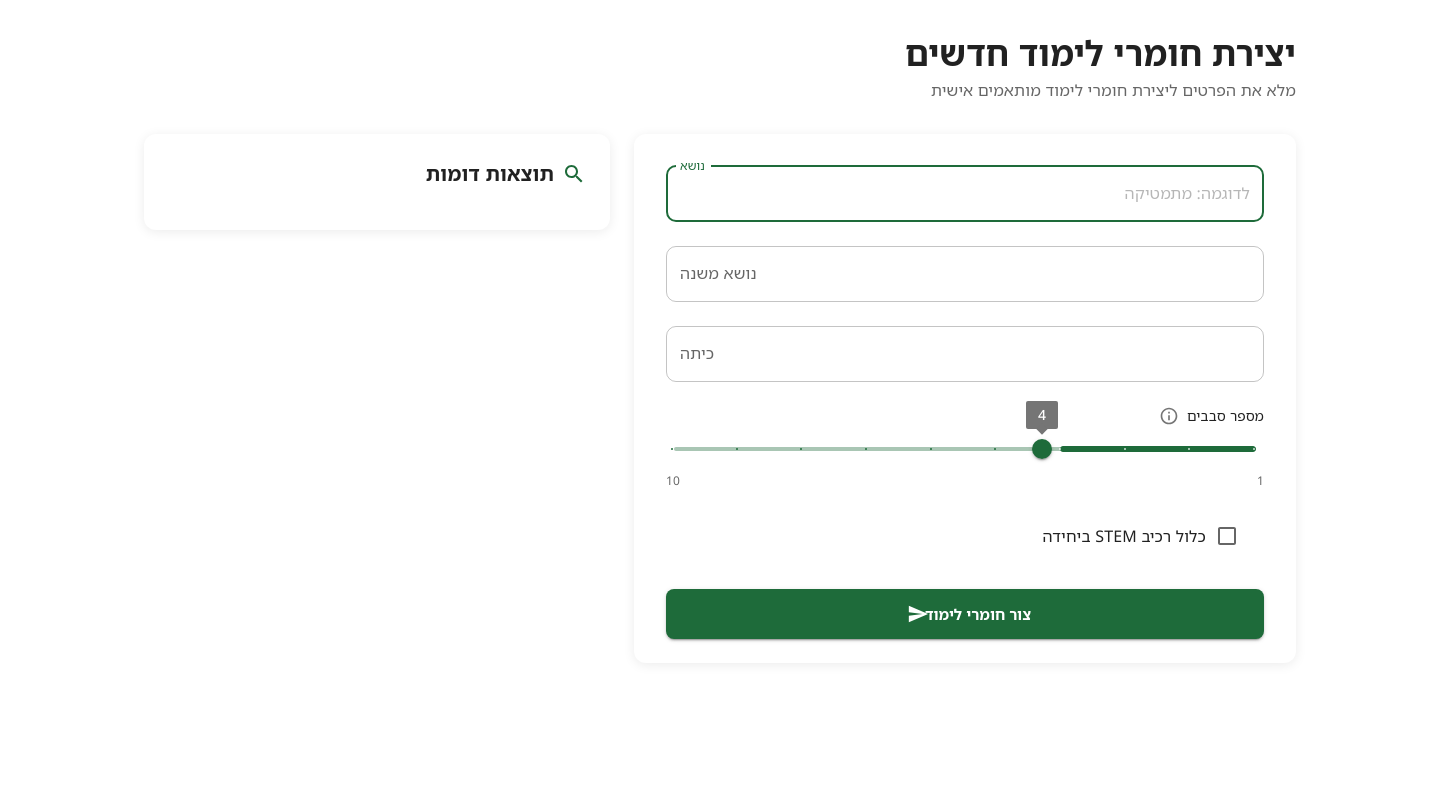
Test: NewGenerationPage › shows error message on submission failure
The image size is (1440, 810).
In the field labelled "נושא": (965, 194) x1=666 y1=166 x2=1264 y2=222, type "מתמטיקה"
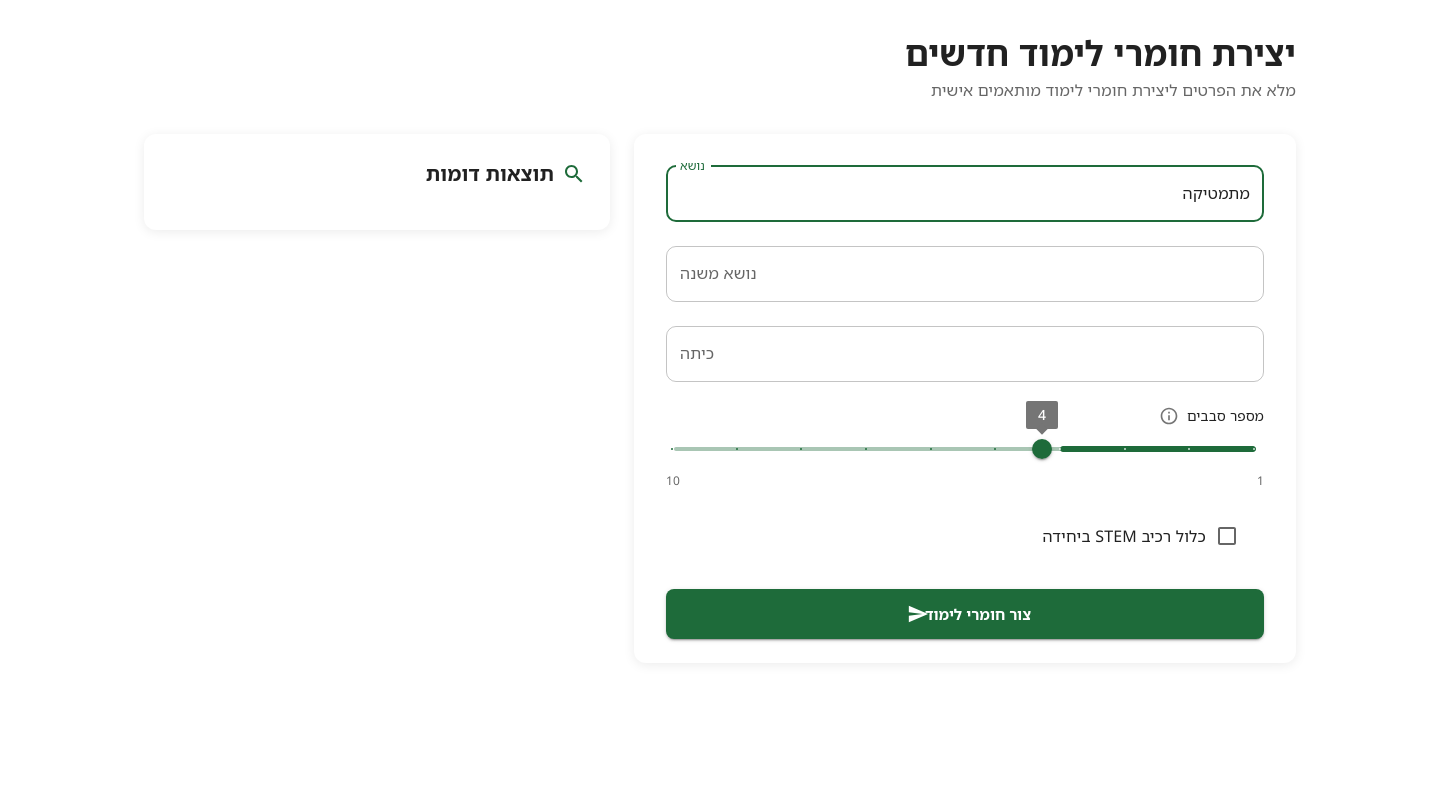
In the field labelled "נושא משנה": (965, 274) x1=666 y1=246 x2=1264 y2=302, type "שברים"
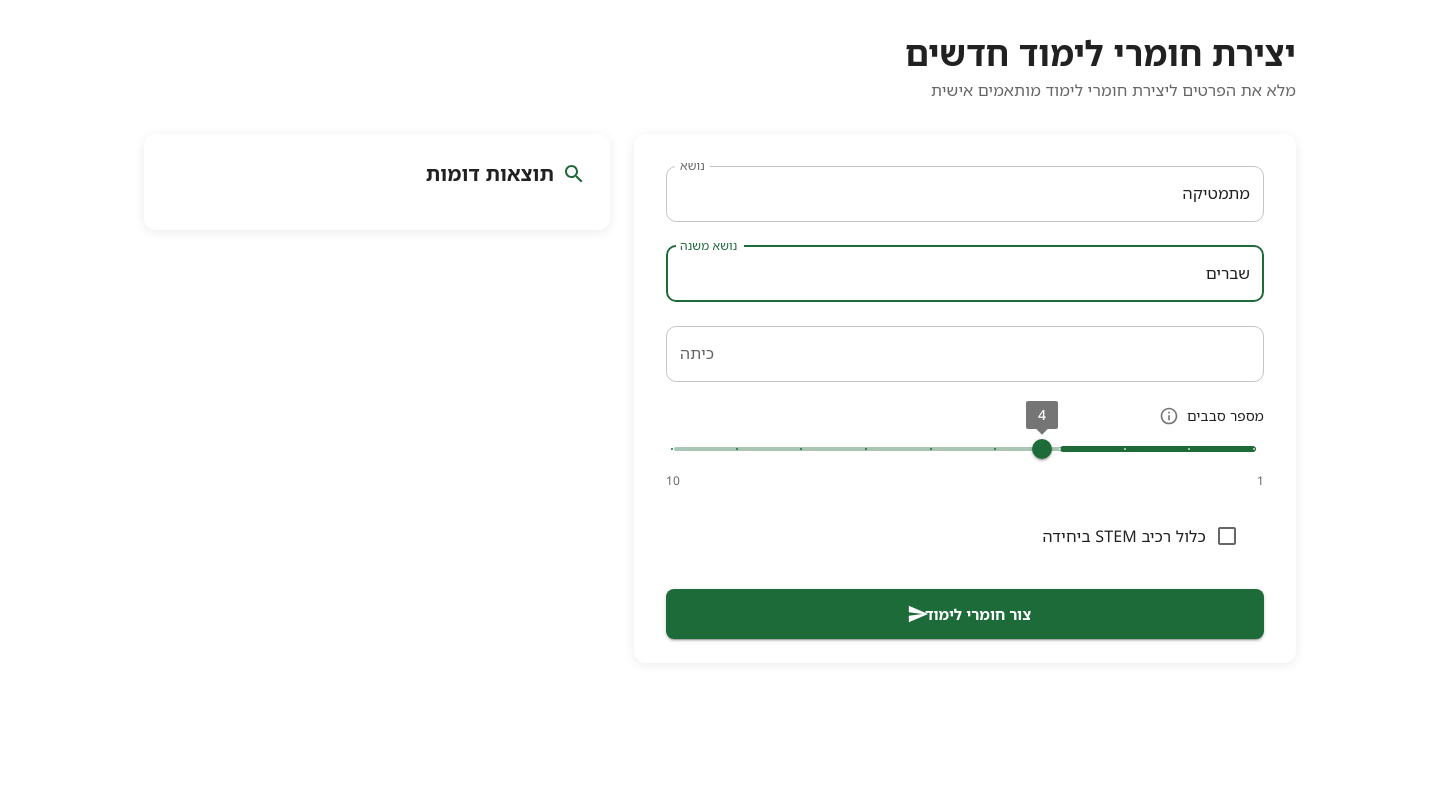
In the field labelled "כיתה": (965, 354) x1=666 y1=326 x2=1264 y2=382, type "כיתה ה"
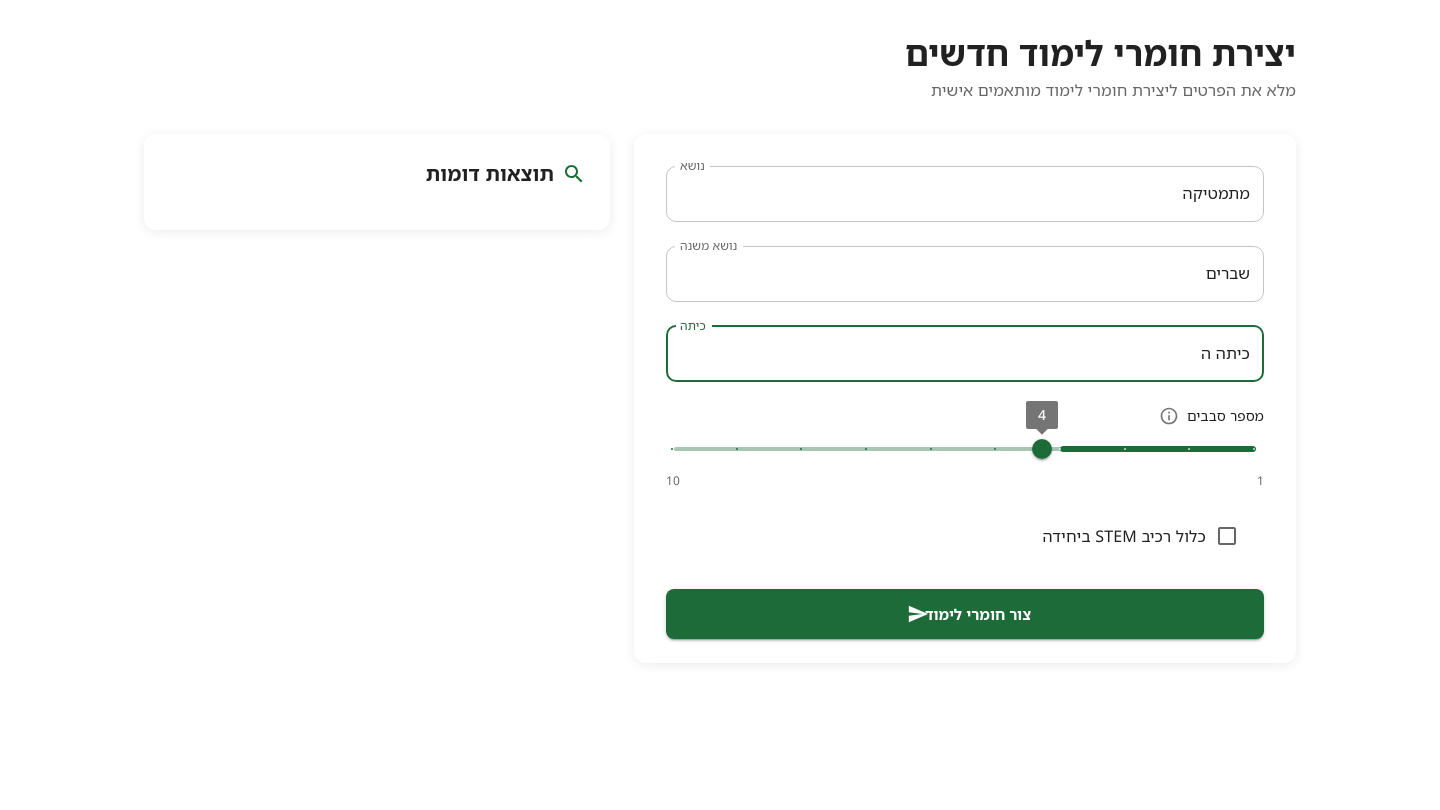
Click the button "צור חומרי לימוד": (965, 614) x1=666 y1=589 x2=1264 y2=639
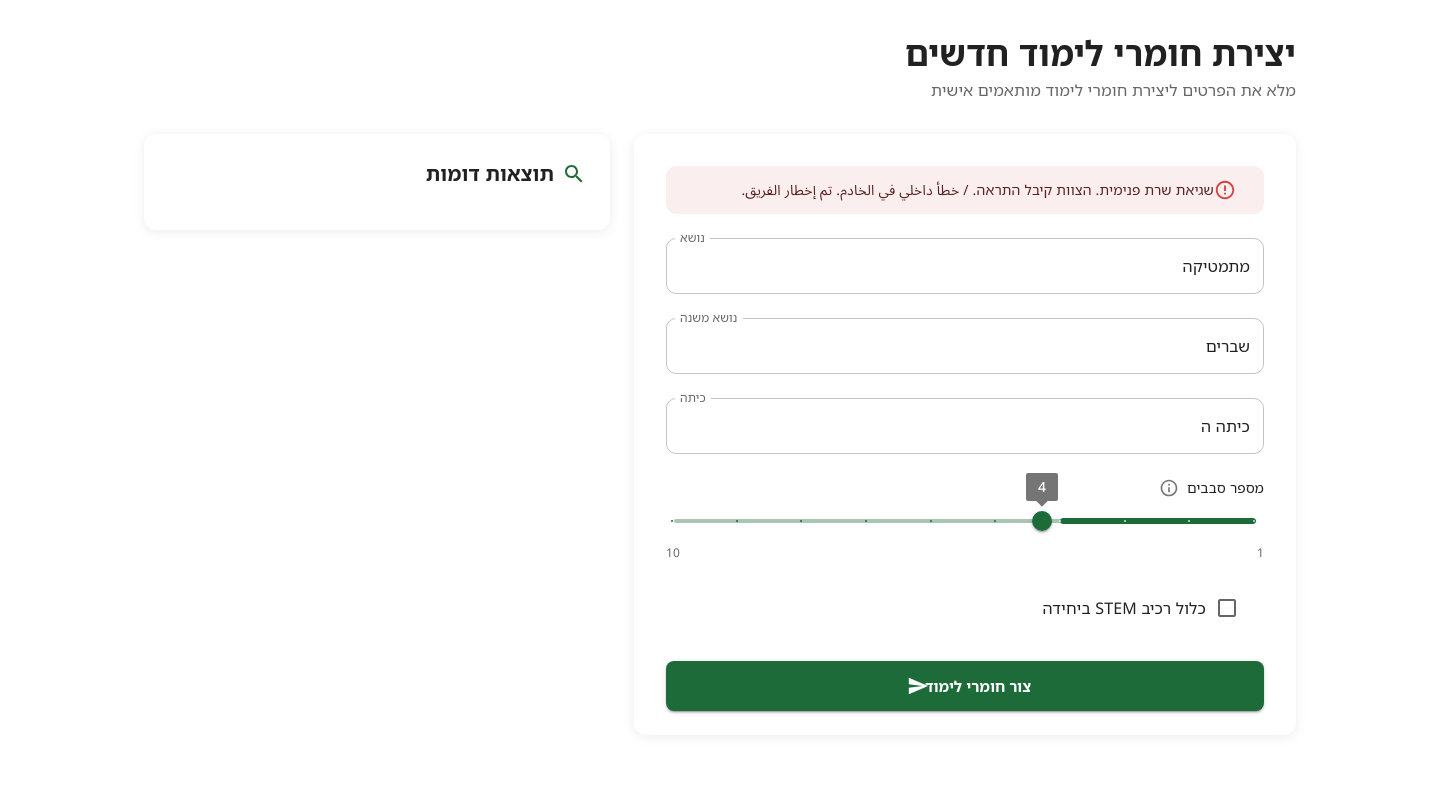
Expected: the message "שגיאת שרת פנימית. הצוות קיבל התראה. / خطأ داخلي في الخادم. تم إخطار الفريق." is shown, x1=666 y1=166 x2=1264 y2=214
